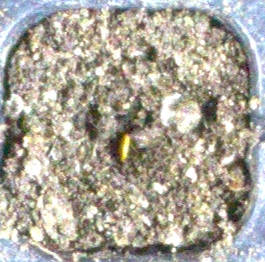pepper seed: (51, 50, 184, 213)
